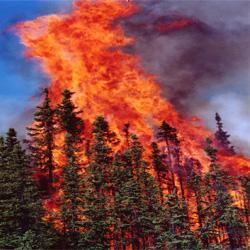fire: (55, 9, 136, 98)
